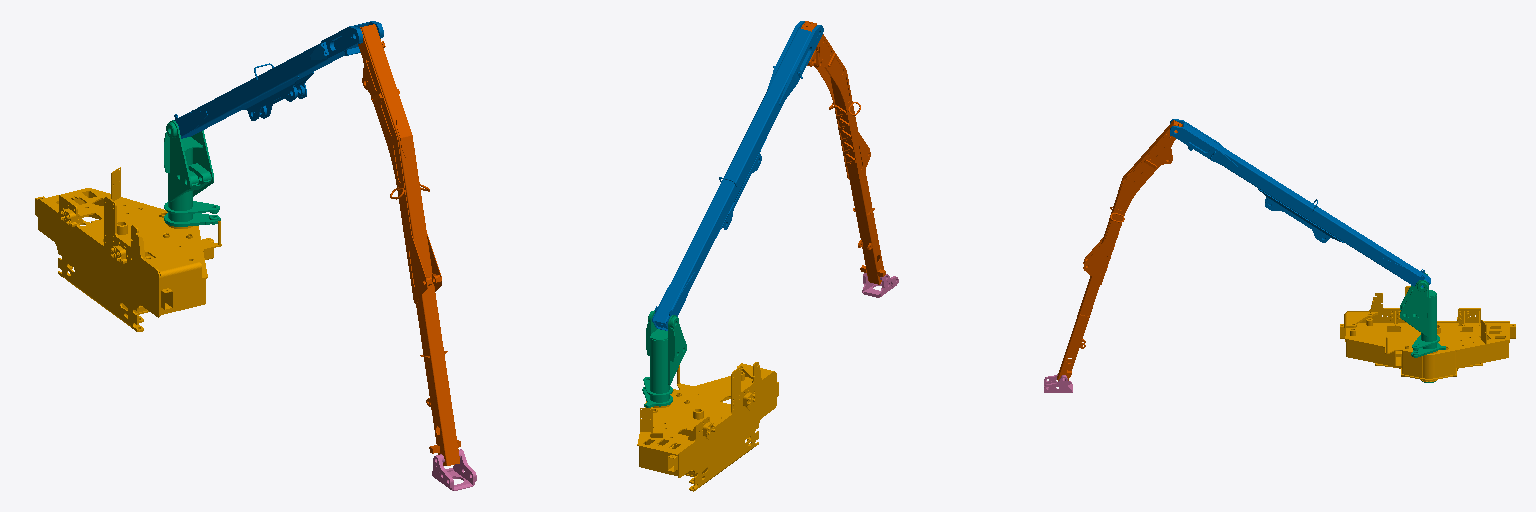
URDF robot description (Mulag_FME_500):
<robot name="Mulag_FME_500" version="1.0">
  <joint name="Ausleger-Schwenkzylinder_Rohr_link_joint" type="revolute">
    <limit lower="-3.14000" upper="3.14000" effort="0.00000" velocity="0.00000"/>
    <origin rpy="0.00000 0.00000 2.10539" xyz="0.05000 -0.54499 0.42096"/>
    <parent link="Frontrahmen_link"/>
    <child link="Ausleger-Schwenkzylinder_Rohr_link"/>
    <axis xyz="0.00000 0.00000 1.00000"/>
  </joint>
  <joint name="Drehzapfen_link_joint" type="revolute">
    <limit lower="-1.57000" upper="0.52333" effort="0.00000" velocity="0.00000"/>
    <origin rpy="0.00000 0.00000 0.00000" xyz="0.59500 0.00000 0.05047"/>
    <parent link="Frontrahmen_link"/>
    <child link="Drehzapfen_link"/>
    <axis xyz="0.00000 0.00000 1.00000"/>
  </joint>
  <joint name="Ausleger-Schwenkzylinder_Kolben_link.001_joint" type="revolute">
    <limit lower="-3.14000" upper="3.14000" effort="0.00000" velocity="0.00000"/>
    <origin rpy="0.00000 0.00000 -1.03620" xyz="0.17202 -0.12045 0.37049"/>
    <parent link="Drehzapfen_link"/>
    <child link="Ausleger-Schwenkzylinder_Kolben_link.001"/>
    <axis xyz="0.00000 0.00000 1.00000"/>
  </joint>
  <joint name="Ausleger_I_link_joint" type="revolute">
    <limit lower="-0.78500" upper="0.78500" effort="0.00000" velocity="0.00000"/>
    <origin rpy="-1.57080 -0.60387 -1.57080" xyz="-0.00000 -0.06000 0.98999"/>
    <parent link="Drehzapfen_link"/>
    <child link="Ausleger_I_link"/>
    <axis xyz="0.00000 0.00000 1.00000"/>
  </joint>
  <joint name="Ausleger_II_link_joint" type="revolute">
    <limit lower="-1.22111" upper="0.17444" effort="0.00000" velocity="0.00000"/>
    <origin rpy="0.00000 -0.00000 1.78473" xyz="2.74998 -0.00009 0.00000"/>
    <parent link="Ausleger_I_link"/>
    <child link="Ausleger_II_link"/>
    <axis xyz="0.00000 0.00000 1.00000"/>
  </joint>
  <joint name="Schwenkzylinder.001_link_joint" type="revolute">
    <limit lower="-0.78500" upper="0.78500" effort="0.00000" velocity="0.00000"/>
    <origin rpy="-0.00000 0.00000 -0.01644" xyz="2.71028 0.00005 -0.00000"/>
    <parent link="Ausleger_II_link"/>
    <child link="Messerkopf-Schwenk_base_link"/>
    <axis xyz="0.00000 0.00000 1.00000"/>
  </joint>
  <joint name="Messerkopf_link_joint" type="revolute">
    <limit lower="-1.04667" upper="1.04667" effort="0.00000" velocity="0.00000"/>
    <origin rpy="2.94854 -1.57080 0.59943" xyz="0.17693 -0.00007 0.00000"/>
    <parent link="Messerkopf-Schwenk_base_link"/>
    <child link="Messerkopf_link"/>
    <axis xyz="0.00000 0.00000 1.00000"/>
  </joint>
  <link name="Frontrahmen_link">
    <collision name="Frontrahmen_collision">
      <origin rpy="0.00000 0.00000 0.00000" xyz="0.18231 -0.01350 0.14256"/>
      <geometry>
        <box size="0.60000 1.61698 0.45000"/>
      </geometry>
    </collision>
    <collision name="Frontrahmen_collision.000">
      <origin rpy="0.00000 0.00000 0.00000" xyz="-0.49687 -0.01350 0.31823"/>
      <geometry>
        <box size="0.76899 3.00000 1.80000"/>
      </geometry>
    </collision>
    <visual name="Frontrahmen">
      <material name="None"/>
      <origin rpy="0.00000 0.00000 0.00000" xyz="0.00000 0.00000 0.00000"/>
      <geometry>
        <mesh filename="../meshes/stl/E-026502_FME 500_AP_stl.003.stl" scale="1.00000 1.00000 1.00000"/>
      </geometry>
    </visual>
  </link>
  <link name="Ausleger-Schwenkzylinder_Rohr_link"/>
  <link name="Drehzapfen_link">
    <collision name="Drehzapfen_collision">
      <origin rpy="0.00000 0.00000 0.00000" xyz="0.04191 -0.05484 0.63348"/>
      <geometry>
        <box size="0.34021 0.43031 0.50000"/>
      </geometry>
    </collision>
    <visual name="Drehzapfen">
      <material name="None"/>
      <origin rpy="0.00000 0.00000 0.00000" xyz="0.00000 0.00000 0.00000"/>
      <geometry>
        <mesh filename="../meshes/stl/E-026502_FME 500_AP_stl.002.stl" scale="1.00000 1.00000 1.00000"/>
      </geometry>
    </visual>
  </link>
  <link name="Ausleger-Schwenkzylinder_Kolben_link.001"/>
  <link name="Ausleger_I_link">
    <collision name="Ausleger_I_collision">
      <origin rpy="0.00000 0.00000 -0.00000" xyz="1.37682 0.11409 0.00000"/>
      <geometry>
        <box size="2.30000 0.40000 0.24890"/>
      </geometry>
    </collision>
    <visual name="Ausleger_I">
      <material name="None"/>
      <origin rpy="0.00000 0.00000 0.00000" xyz="0.00000 0.00000 0.00000"/>
      <geometry>
        <mesh filename="../meshes/stl/E-026502_FME 500_AP_stl.004.stl" scale="1.00000 1.00000 1.00000"/>
      </geometry>
    </visual>
  </link>
  <link name="Ausleger_II_link">
    <collision name="Ausleger_II_collision">
      <origin rpy="0.00000 -0.00000 0.00000" xyz="1.52778 -0.08901 0.00000"/>
      <geometry>
        <box size="2.40000 0.35148 0.24781"/>
      </geometry>
    </collision>
    <visual name="Ausleger_II">
      <material name="None"/>
      <origin rpy="0.00000 -0.00000 0.00000" xyz="-0.00000 0.00000 -0.00000"/>
      <geometry>
        <mesh filename="../meshes/stl/E-026502_FME 500_AP_stl.006.stl" scale="1.00000 1.00000 1.00000"/>
      </geometry>
    </visual>
  </link>
  <link name="Messerkopf-Schwenk_base_link">
    <visual name="Messerkopf-Schwenk_base">
      <material name="None"/>
      <origin rpy="0.00000 -0.00000 0.00000" xyz="0.00000 0.00000 0.00000"/>
      <geometry>
        <mesh filename="../meshes/stl/E-026502_FME 500_AP_stl.001.stl" scale="1.00000 1.00000 1.00000"/>
      </geometry>
    </visual>
  </link>
  <link name="Messerkopf_link">
    <collision name="Messerkopf_collision">
      <origin rpy="-0.00000 -0.00000 -0.00000" xyz="0.37816 -0.03350 0.24927"/>
      <geometry>
        <box size="1.06631 1.45698 0.55755"/>
      </geometry>
    </collision>
    <visual name="Messerkopf">
      <material name="Material.001"/>
      <origin rpy="-0.00000 -0.00000 -0.00000" xyz="-0.00000 -0.00000 0.00000"/>
      <geometry>
        <mesh filename="../meshes/stl/E-026502_FME 500_AP_stl.009.stl" scale="1.00000 1.00000 1.00000"/>
      </geometry>
    </visual>
  </link>
  <material name="Material.001">
    <color rgba="0.80000 0.80000 0.80000 1.00000"/>
  </material>
</robot>

--- Facts derived from the render (not from the file) ---
Views: 3 orthographic renders of the robot side by side, from view 1: azimuth 30°, elevation 25°; view 2: azimuth 150°, elevation 25°; view 3: azimuth 270°, elevation 25°.
Model Mulag_FME_500 with 8 links and 7 joints (7 revolute), rooted at Frontrahmen_link, posed every joint at zero.
Links seen in each view (by area): view 1: Frontrahmen_link, Ausleger_II_link, Ausleger_I_link, Drehzapfen_link, Messerkopf-Schwenk_base_link; view 2: Frontrahmen_link, Ausleger_I_link, Ausleger_II_link, Drehzapfen_link; view 3: Frontrahmen_link, Ausleger_I_link, Ausleger_II_link, Drehzapfen_link.
Boxes of the visible links, bbox=[...] form: Frontrahmen_link: bbox=[35, 167, 221, 331]; Ausleger_II_link: bbox=[358, 24, 460, 465]; Ausleger_I_link: bbox=[174, 21, 383, 138]; Drehzapfen_link: bbox=[164, 120, 220, 226]; Messerkopf-Schwenk_base_link: bbox=[432, 449, 476, 490]; Frontrahmen_link: bbox=[637, 362, 778, 491]; Ausleger_I_link: bbox=[652, 21, 823, 330]; Ausleger_II_link: bbox=[801, 21, 885, 284]; Drehzapfen_link: bbox=[642, 310, 686, 407]; Frontrahmen_link: bbox=[1340, 286, 1515, 381]; Ausleger_I_link: bbox=[1170, 119, 1430, 287]; Ausleger_II_link: bbox=[1057, 120, 1182, 380]; Drehzapfen_link: bbox=[1400, 273, 1445, 382].
Bounding box of the posed robot: 0.871 × 4.33 × 2.75 m (x, y, z).
Meshes: 6 distinct files referenced, 5 mesh visuals loaded (5 binary STL); not drawn: 1 (reference not matched to a file when rendering).
